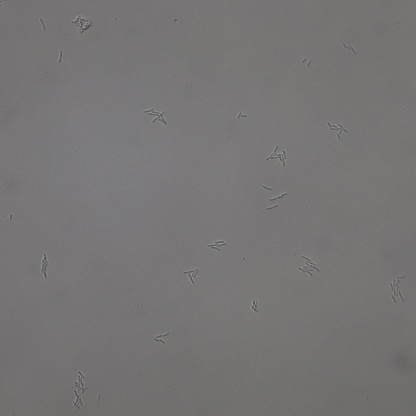R(colony): (297, 255, 322, 277), (389, 274, 406, 303), (265, 144, 287, 166), (328, 120, 348, 140), (145, 107, 168, 124), (72, 370, 89, 391), (70, 390, 84, 414), (207, 239, 227, 253), (183, 268, 199, 285)
